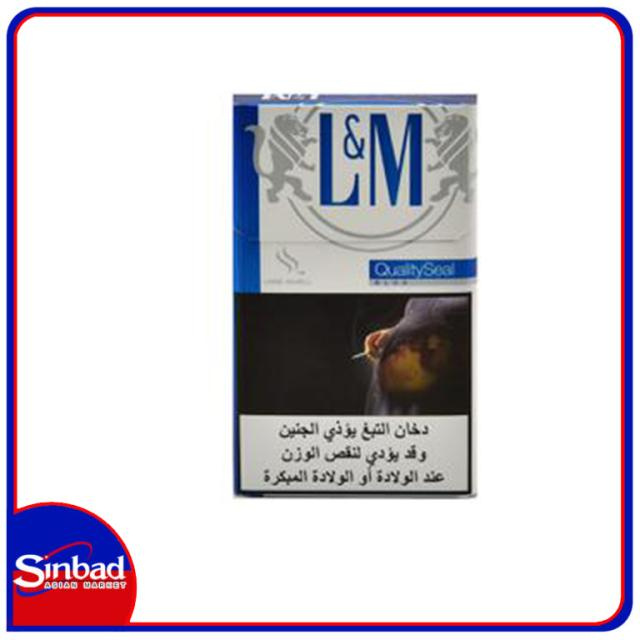lm: (228, 92, 479, 493)
